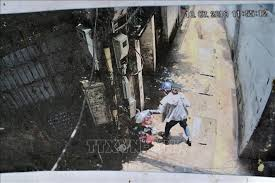plastic bag: (129, 126, 154, 150), (134, 109, 154, 125)
